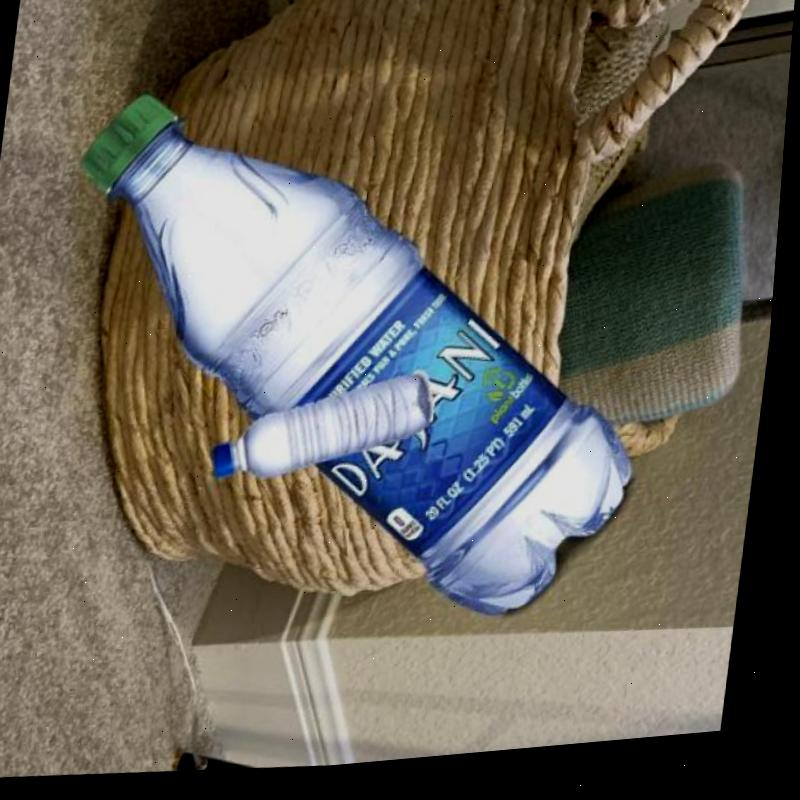botella: (30, 53, 685, 664), (211, 368, 443, 500)
